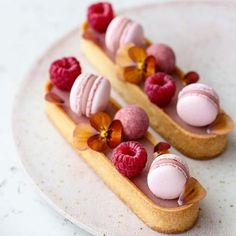eclair: (46, 57, 207, 236), (75, 0, 235, 154)
